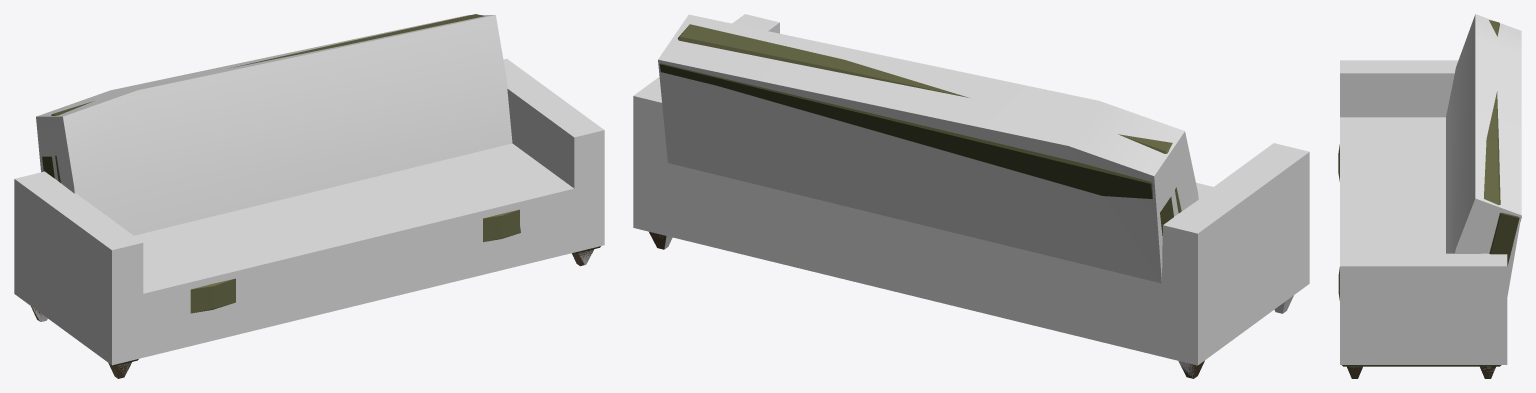
The model's file is model_sofa_large_green.fbx.
3 renders of one model, left to right at view 1: azimuth 30°, elevation 25°; view 2: azimuth 150°, elevation 25°; view 3: azimuth 270°, elevation 25°, orthographic. The views are drawn at different scales.
Parts seen in each view (by area): view 1: model_sofa_large_green_col, model_sofa_large_green; view 2: model_sofa_large_green_col, model_sofa_large_green; view 3: model_sofa_large_green_col, model_sofa_large_green.
Part boxes in pixels (x1=…): model_sofa_large_green_col: x1=14, y1=15, x2=604, y2=377; model_sofa_large_green: x1=31, y1=14, x2=600, y2=378; model_sofa_large_green_col: x1=633, y1=14, x2=1309, y2=377; model_sofa_large_green: x1=649, y1=24, x2=1204, y2=378; model_sofa_large_green_col: x1=1340, y1=14, x2=1521, y2=375; model_sofa_large_green: x1=1338, y1=20, x2=1521, y2=378.
Bounding box in the file's own units: 361 × 150 × 136.
2 materials, 1 textured.
